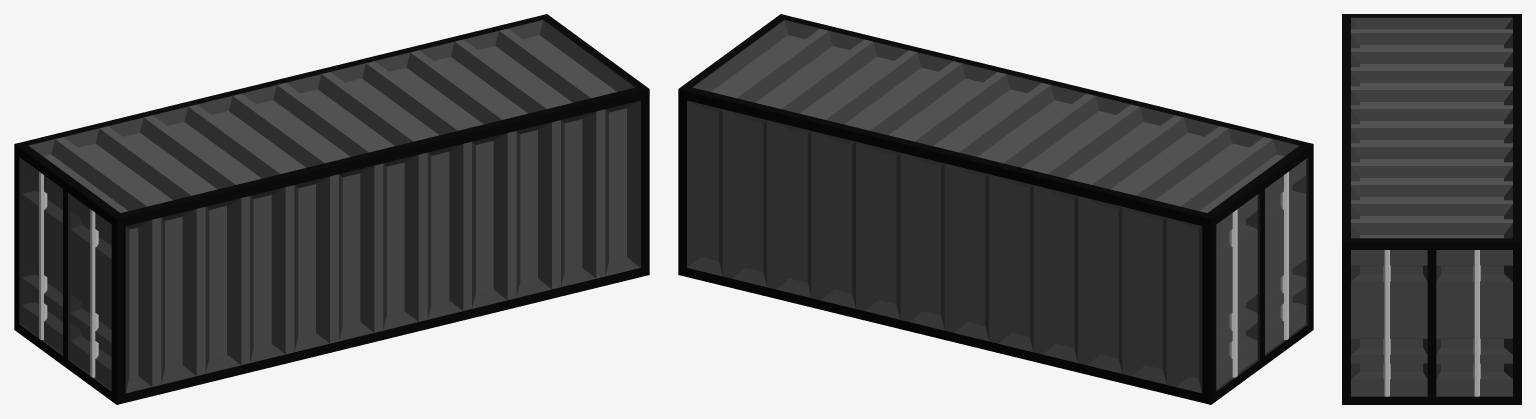
File: Shipping container.glb
3 views of the same model, side by side, from view 1: azimuth 30°, elevation 25°; view 2: azimuth 150°, elevation 25°; view 3: azimuth 270°, elevation 25° (orthographic). The views are drawn at different scales.
Visible parts, largest first — view 1: Shipping_container; view 2: Shipping_container; view 3: Shipping_container.
Part boxes in pixels (bbox=[...]): Shipping_container: bbox=[14, 14, 649, 404]; Shipping_container: bbox=[678, 14, 1313, 404]; Shipping_container: bbox=[1342, 14, 1521, 404].
Size of what is drawn, in the model's own units: 12 by 4 by 4.
1 material, 1 textured.
